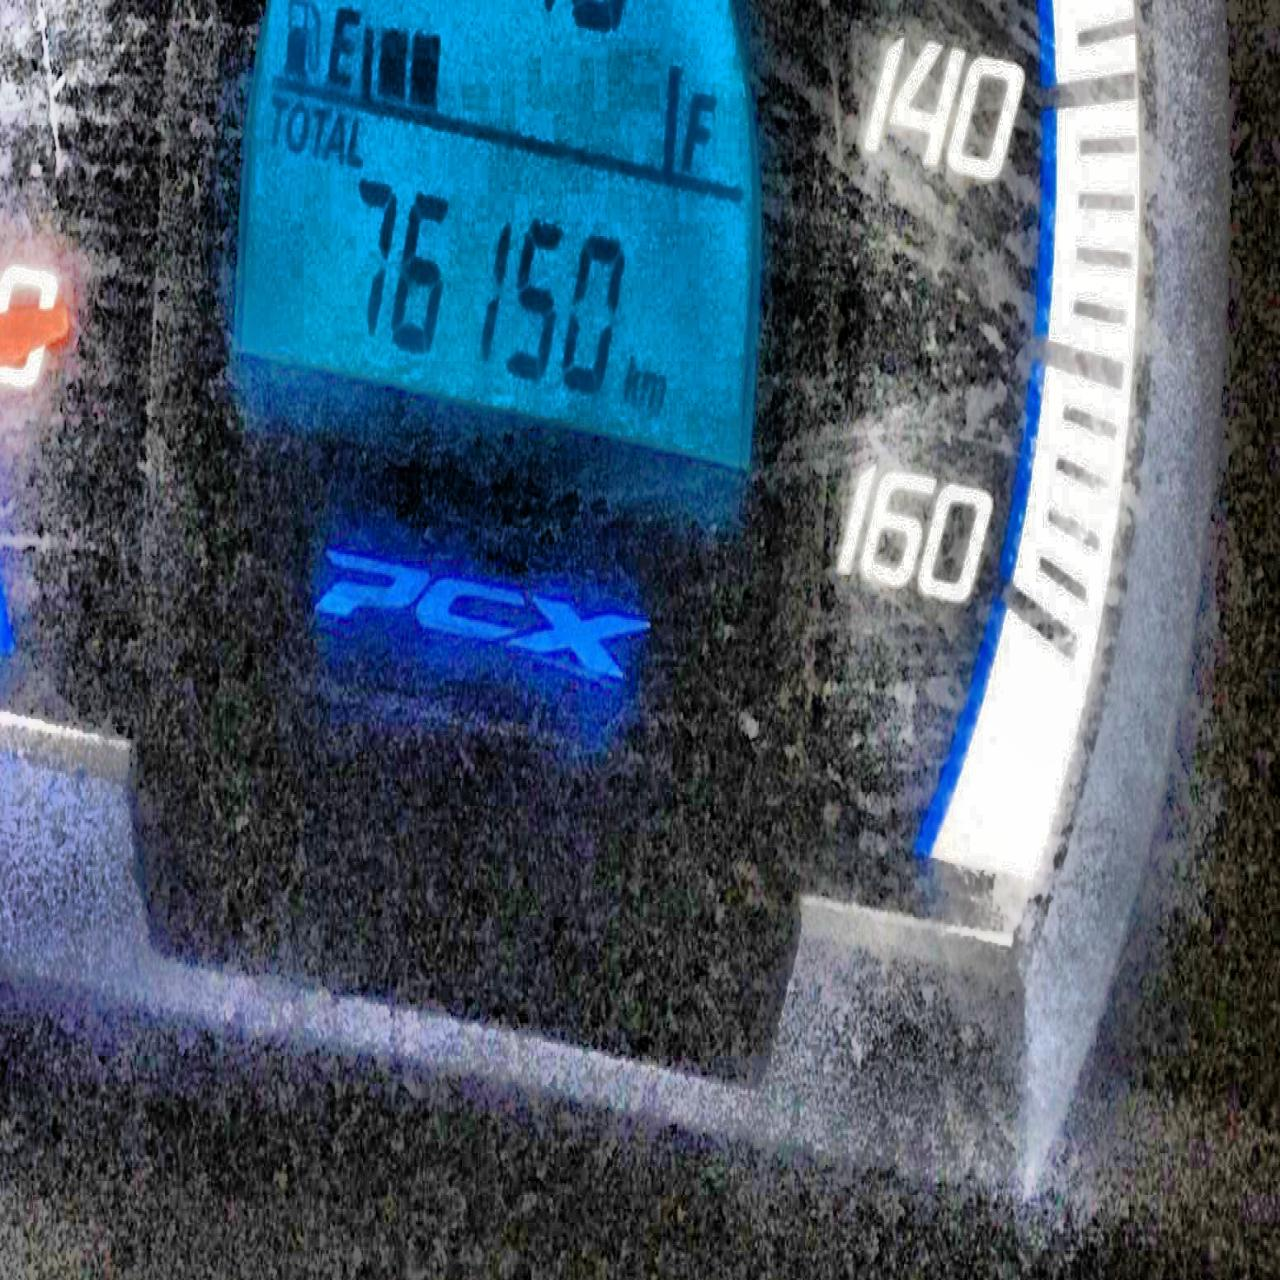0: (566, 233, 618, 394)
1: (477, 209, 508, 389)
5: (515, 210, 557, 386)
6: (394, 178, 449, 354)
7: (353, 169, 393, 335)
X: (682, 79, 715, 176), (328, 4, 360, 90), (287, 94, 308, 158), (347, 109, 369, 169), (640, 367, 668, 414), (311, 97, 331, 163), (620, 353, 641, 414), (268, 87, 288, 147), (326, 104, 346, 163)
odometer: (213, 0, 783, 493)
